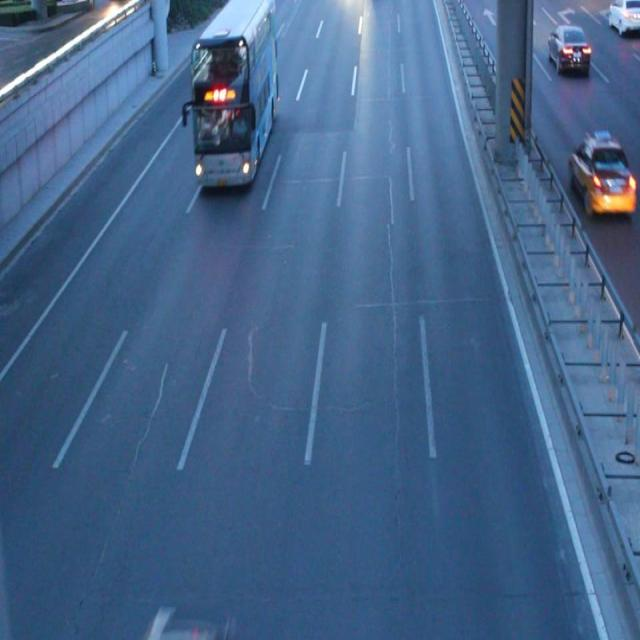car: (569, 124, 629, 216), (548, 25, 590, 72)
van: (190, 1, 279, 191)
